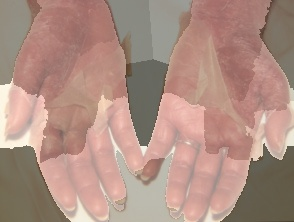SJS-TEN: (134, 0, 294, 222), (0, 0, 144, 222)
